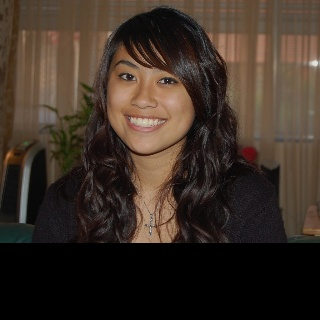without_mask: (106, 39, 194, 155)
